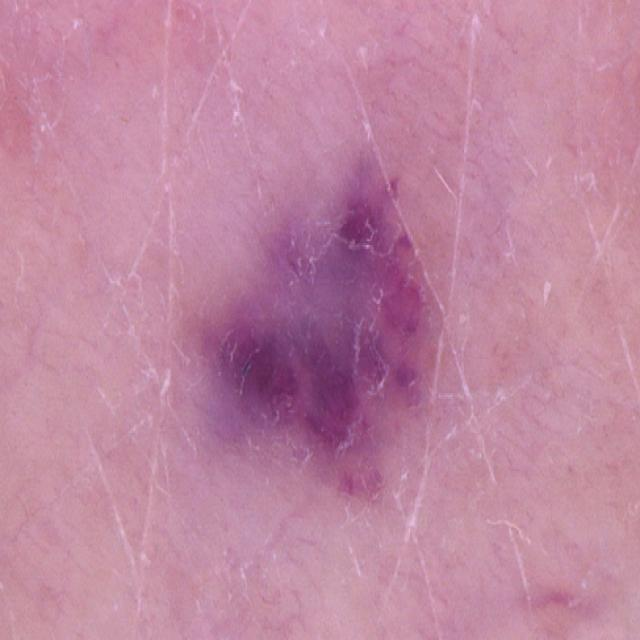Vascular Lesions: (193, 176, 479, 561)
